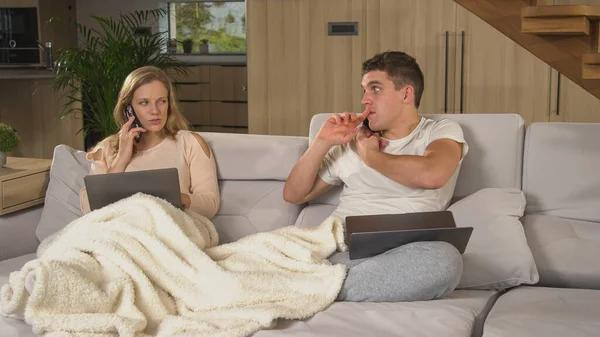blanket: (0, 191, 351, 337)
long sleeve shirt: (76, 131, 220, 236)
short sleeve shirt: (315, 112, 470, 240)
trousers: (320, 238, 465, 303)
